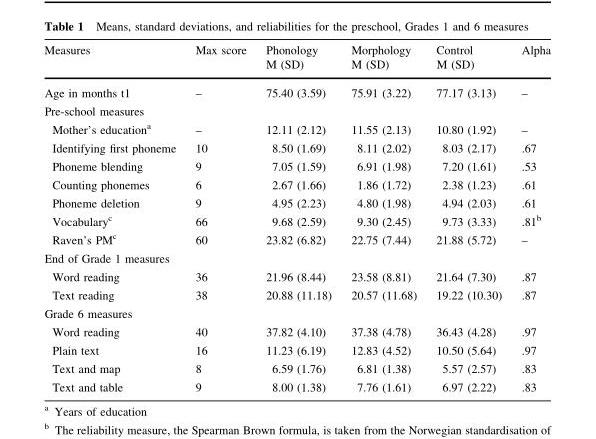table: (43, 44, 550, 393)
table column: (43, 44, 184, 393), (425, 44, 511, 393), (255, 44, 340, 393), (340, 44, 425, 393), (184, 44, 255, 393), (511, 44, 550, 393)
table column header: (43, 44, 550, 78)
table projected row header: (43, 249, 550, 267), (43, 304, 550, 322), (43, 102, 550, 119)
table row: (43, 44, 550, 78), (43, 78, 550, 102), (43, 119, 550, 139), (43, 229, 550, 249), (43, 175, 550, 194), (43, 267, 550, 286), (43, 322, 550, 341), (43, 359, 550, 378), (43, 139, 550, 157), (43, 157, 550, 175), (43, 211, 550, 229), (43, 249, 550, 267), (43, 286, 550, 304), (43, 304, 550, 322), (43, 341, 550, 359), (43, 102, 550, 119), (43, 194, 550, 211), (43, 378, 550, 393)
